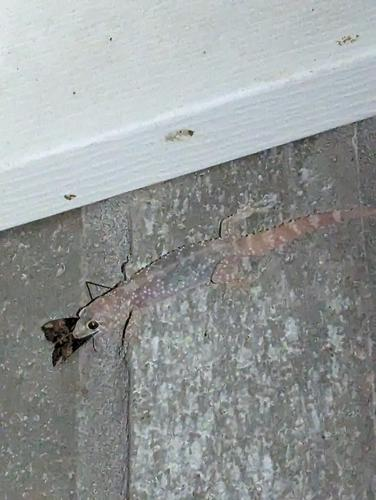lizard: (53, 185, 376, 363)
